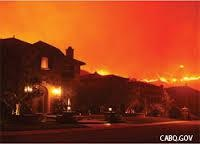fire: (48, 83, 63, 96)
